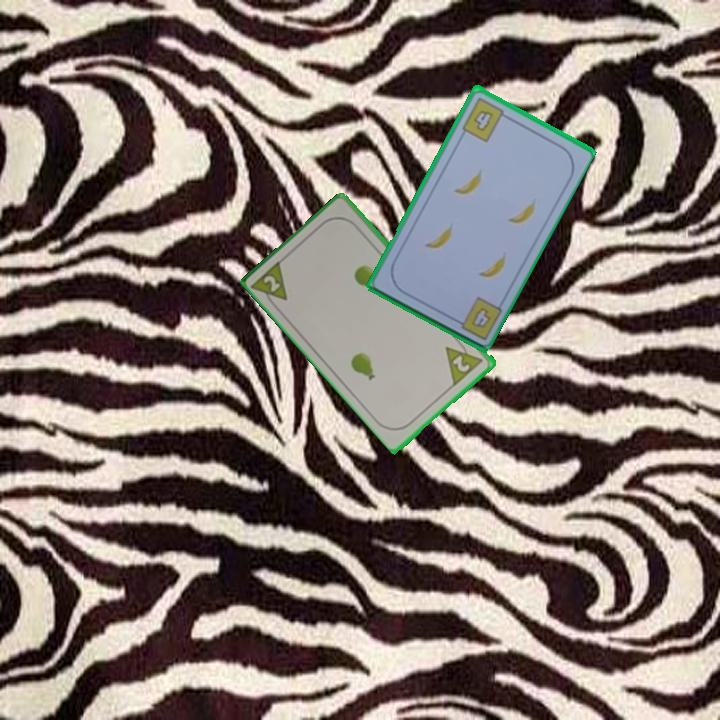2p: (442, 334, 486, 388), (249, 256, 291, 312)
4b: (458, 93, 512, 144), (468, 304, 493, 331)
